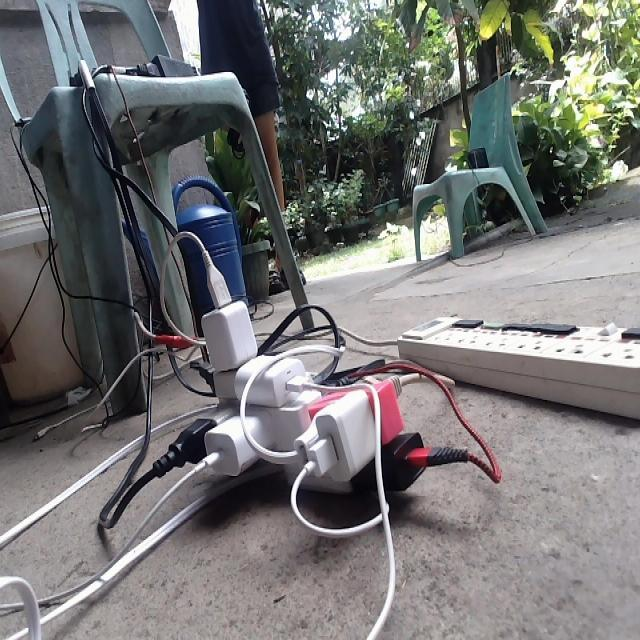-: (171, 274, 433, 510)
